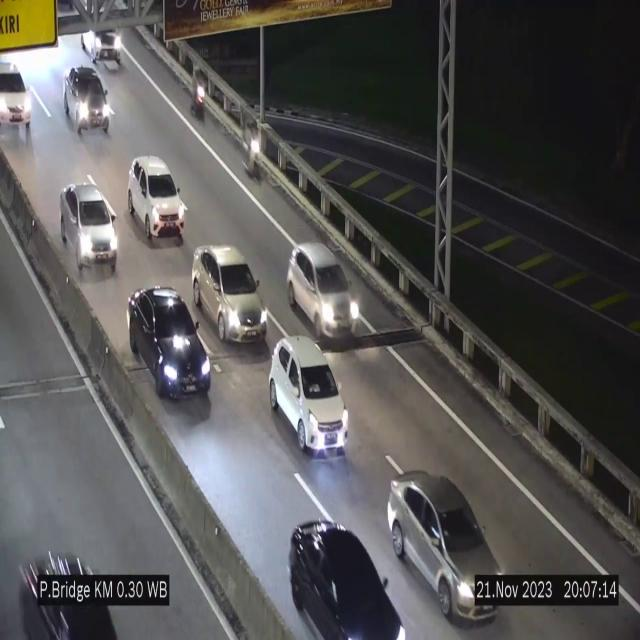Car: (388, 469, 502, 626), (288, 515, 408, 640), (11, 543, 131, 640), (128, 288, 211, 400), (270, 335, 348, 453), (194, 245, 266, 343), (287, 243, 359, 339), (61, 184, 117, 274), (128, 156, 185, 242), (60, 65, 114, 138), (0, 56, 42, 137), (76, 16, 131, 70)
Motorcycle: (188, 60, 208, 122), (245, 116, 261, 182)
